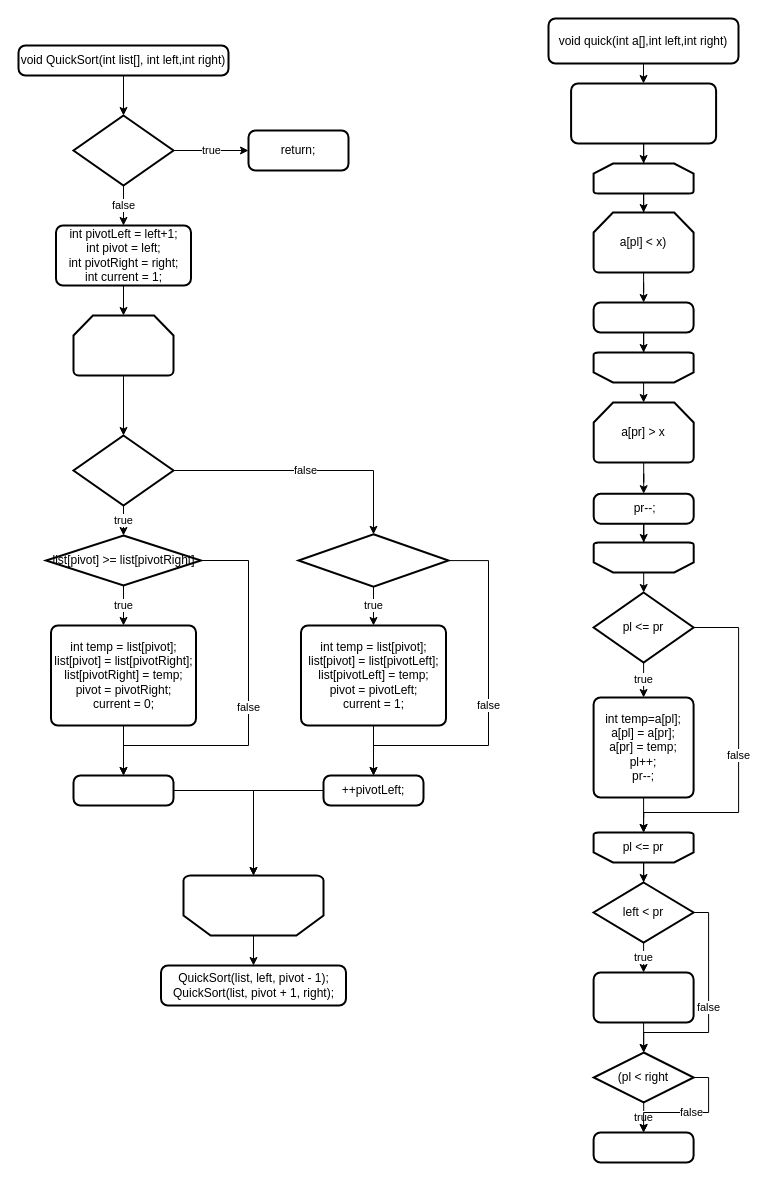
This 767x1180 diagram has some shape labels left out. Each missing label, with the centre of its shape:
"(list[pivot] <= list[pivotLeft])" belongs at point (373, 560).
"--pivotRight;" belongs at point (123, 790).
"current==1" belongs at point (123, 470).
"int pl = left; int pr = right; int x = a[(pl + pr) / 2];" belongs at point (643, 113).
"left >= right" belongs at point (123, 150).
"pivotLeft <= pivotRight" belongs at point (253, 905).
"pl++;" belongs at point (643, 317).
"quick(a, pl, right);" belongs at point (643, 1147).
"quick(a,left,pr);" belongs at point (643, 997).
